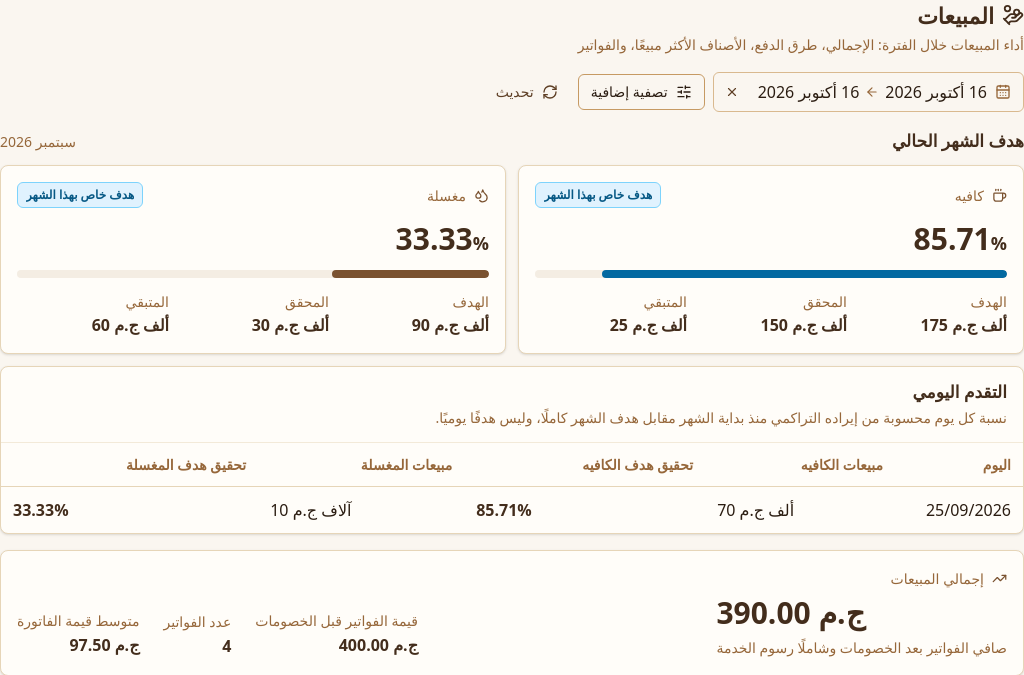
it: SalesPage › keeps the extra filters hidden until they are asked for
This screenshot has width=1024, height=675.
Expected: the field labelled "طريقة الدفع" is not shown
Click the button "تصفية إضافية" at [641, 92], box [578, 74, 705, 110]
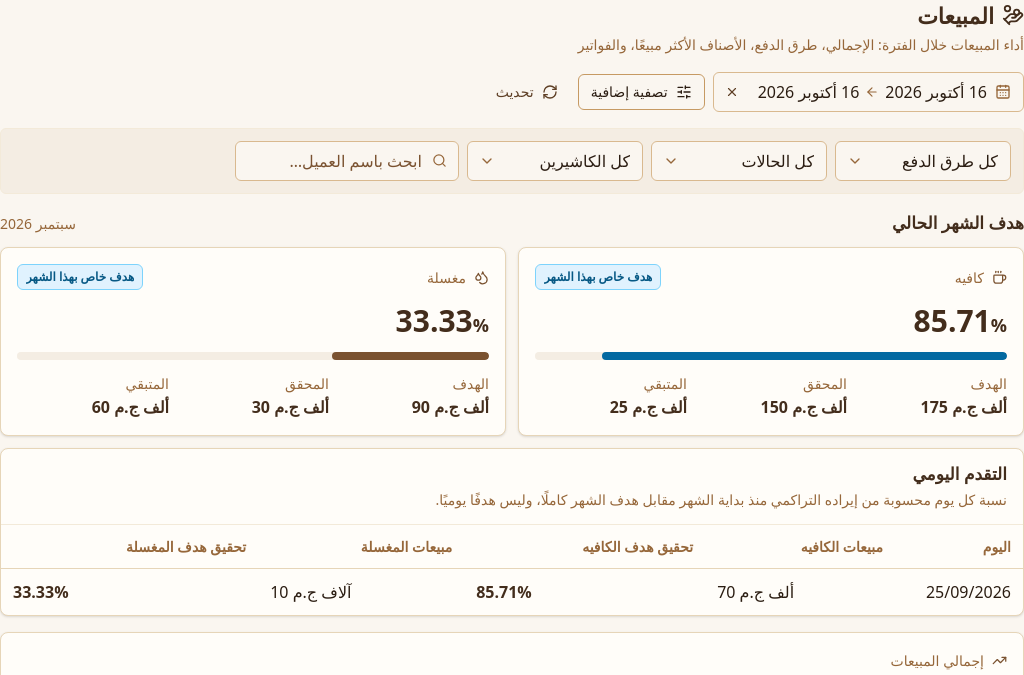
Expected: the 3rd dropdown named "طريقة الدفع" is shown, [835, 141, 1011, 181]
Expected: the 2nd dropdown named "حالة الفاتورة" is shown, [651, 141, 827, 181]
Expected: the 1st dropdown named "الكاشير" is shown, [467, 141, 643, 181]
